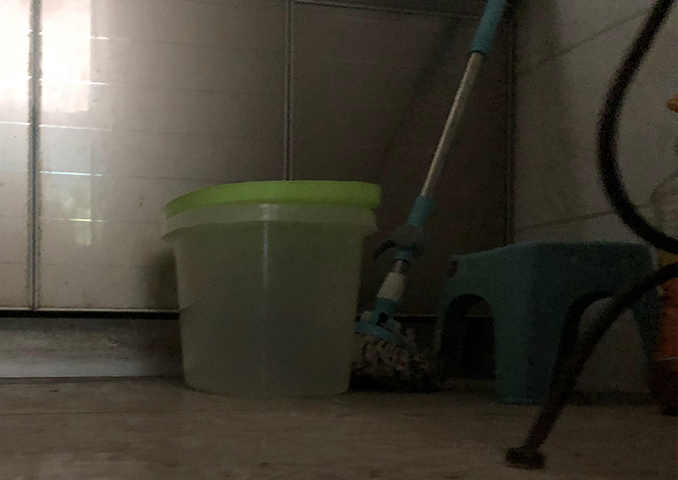cabinet: (1, 1, 521, 381)
stool: (423, 234, 660, 403)
trashcan: (156, 178, 383, 403)
